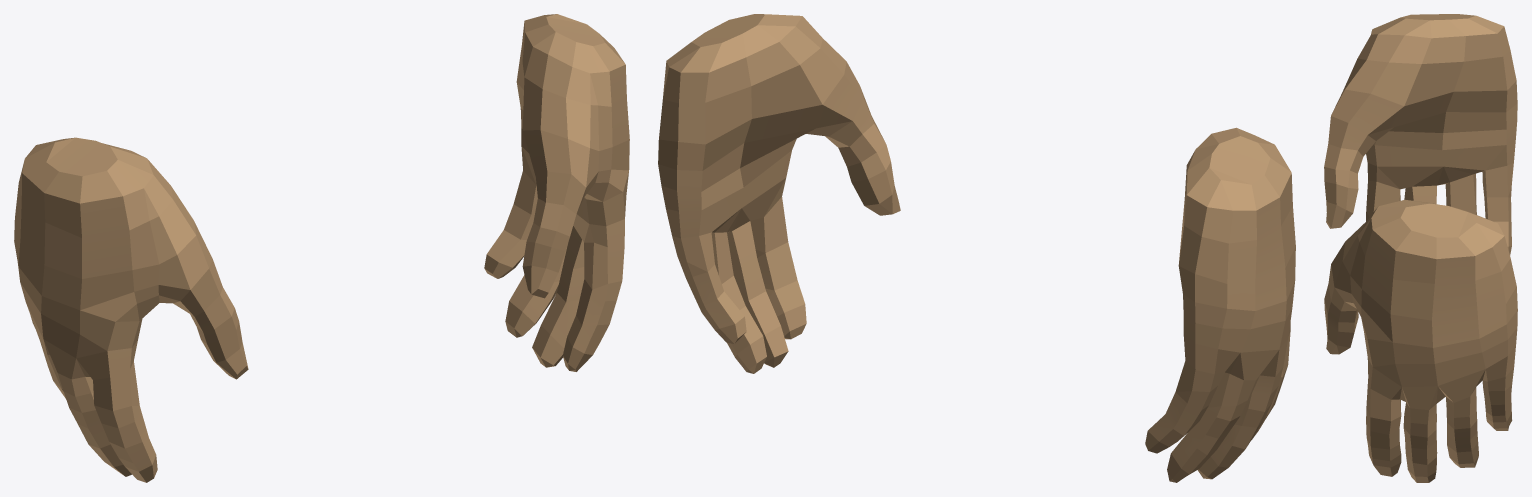
File: Hands_3.glb
The picture shows the model from 3 angles, left to right: view 1: azimuth 30°, elevation 25°; view 2: azimuth 150°, elevation 25°; view 3: azimuth 270°, elevation 25°; orthographic projection. The views are drawn at different scales.
Visible parts, largest first — view 1: Hands_3; view 2: Hands_3; view 3: Hands_3.
Boxes of the visible parts, left/top/right/bottom form: Hands_3: left=14, top=14, right=629, bottom=482; Hands_3: left=658, top=14, right=1295, bottom=482; Hands_3: left=1324, top=14, right=1517, bottom=482.
Bounding box in the file's own units: 14.89 × 8.19 × 4.98.
Materials: 1 (1 with a texture image).
